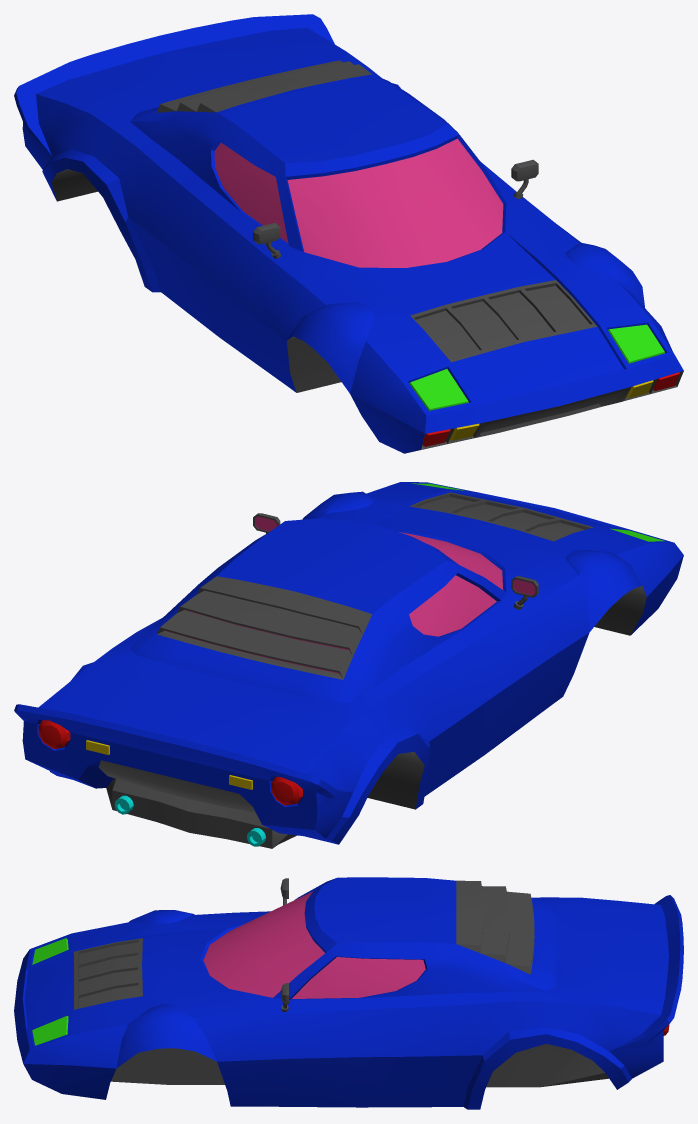
The picture shows the model from 3 angles, top to bottom: view 1: azimuth 30°, elevation 25°; view 2: azimuth 150°, elevation 25°; view 3: azimuth 270°, elevation 25°; orthographic projection. The views are drawn at different scales.
Parts seen in each view (by area): view 1: C44; view 2: C44; view 3: C44.
Part boxes in pixels (<box>): C44: <box>14,14,683,453</box>; C44: <box>14,482,683,848</box>; C44: <box>14,877,683,1109</box>.
Bounding box in the file's own units: 89.01 × 47.25 × 194.
